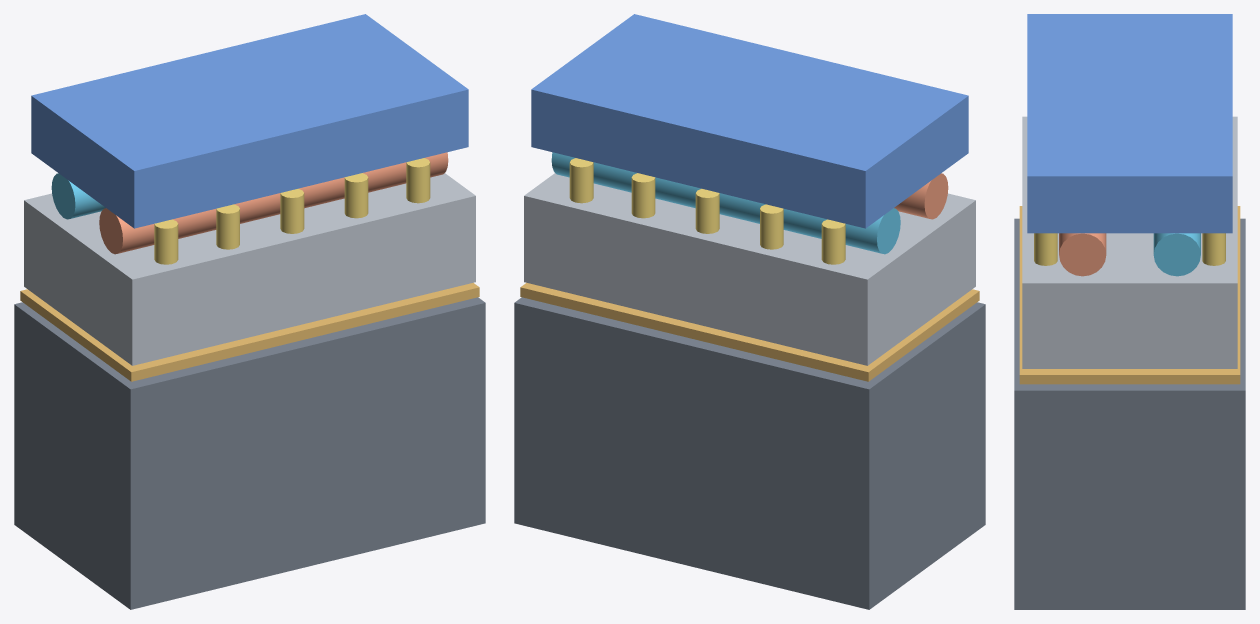
The model's file is mech-cylinder.glb.
3 views of the same model, side by side, from view 1: azimuth 30°, elevation 25°; view 2: azimuth 150°, elevation 25°; view 3: azimuth 270°, elevation 25° (orthographic).
Parts seen in each view (by area): view 1: part_cylinder_block, part_valve_cover, part_cylinder_head, part_gasket_head, part_camshaft_exhaust, part_camshaft_intake, part_bolt_06, part_bolt_08, part_bolt_09, part_bolt_10, part_bolt_07; view 2: part_cylinder_block, part_valve_cover, part_cylinder_head, part_gasket_head, part_camshaft_intake, part_camshaft_exhaust, part_bolt_01, part_bolt_03, part_bolt_04, part_bolt_05, part_bolt_02; view 3: part_cylinder_block, part_valve_cover, part_cylinder_head, part_gasket_head, part_camshaft_intake, part_camshaft_exhaust, part_bolt_05, part_bolt_10.
Boxes of the visible parts, box(x1,y1,x2,y2) form: part_cylinder_block: box(14, 297, 485, 609); part_valve_cover: box(31, 14, 468, 228); part_cylinder_head: box(24, 173, 475, 365); part_gasket_head: box(20, 282, 479, 381); part_camshaft_exhaust: box(99, 152, 448, 254); part_camshaft_intake: box(51, 173, 105, 219); part_bolt_06: box(154, 219, 178, 264); part_bolt_08: box(280, 188, 304, 233); part_bolt_09: box(344, 173, 368, 218); part_bolt_10: box(406, 158, 430, 203); part_bolt_07: box(216, 204, 239, 249); part_cylinder_block: box(514, 297, 985, 609); part_valve_cover: box(531, 14, 968, 228); part_cylinder_head: box(524, 173, 975, 365); part_gasket_head: box(520, 282, 979, 381); part_camshaft_intake: box(551, 152, 900, 254); part_camshaft_exhaust: box(894, 173, 948, 219); part_bolt_01: box(821, 219, 845, 264); part_bolt_03: box(695, 188, 719, 233); part_bolt_04: box(631, 173, 655, 218); part_bolt_05: box(569, 158, 593, 203); part_bolt_02: box(760, 204, 783, 249); part_cylinder_block: box(1014, 218, 1245, 609); part_valve_cover: box(1027, 14, 1232, 233); part_cylinder_head: box(1022, 116, 1237, 368); part_gasket_head: box(1019, 206, 1240, 384); part_camshaft_intake: box(1153, 233, 1200, 276); part_camshaft_exhaust: box(1059, 233, 1106, 276); part_bolt_05: box(1202, 233, 1225, 265); part_bolt_10: box(1034, 233, 1057, 265).
Size of the model in its own units: 1.55 by 1.8 by 0.88.
